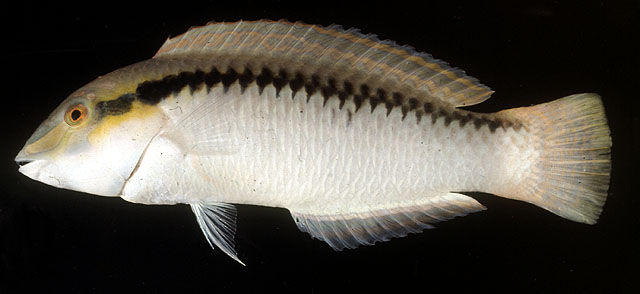fish: (15, 19, 613, 266)
